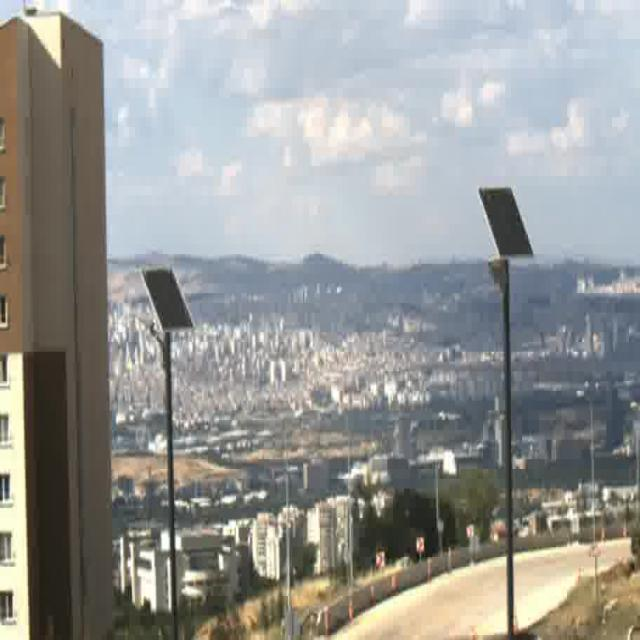Car: (630, 528, 639, 554)
